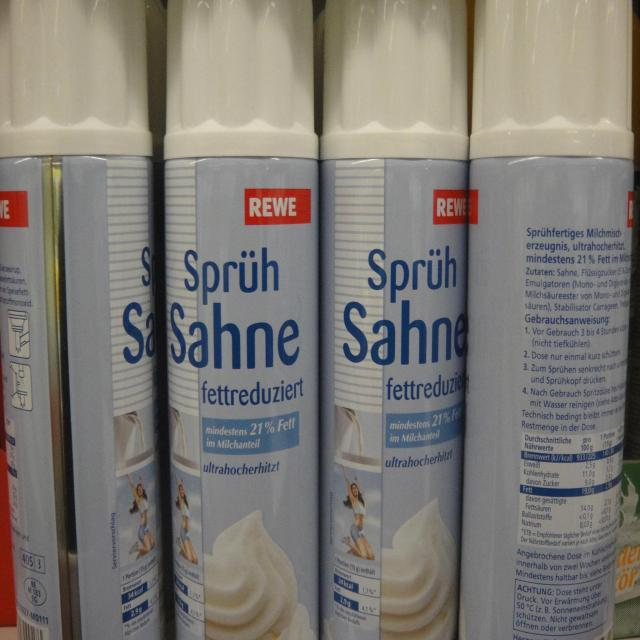Cream: (460, 0, 633, 638), (0, 0, 162, 639), (165, 0, 318, 639), (321, 0, 468, 638)
